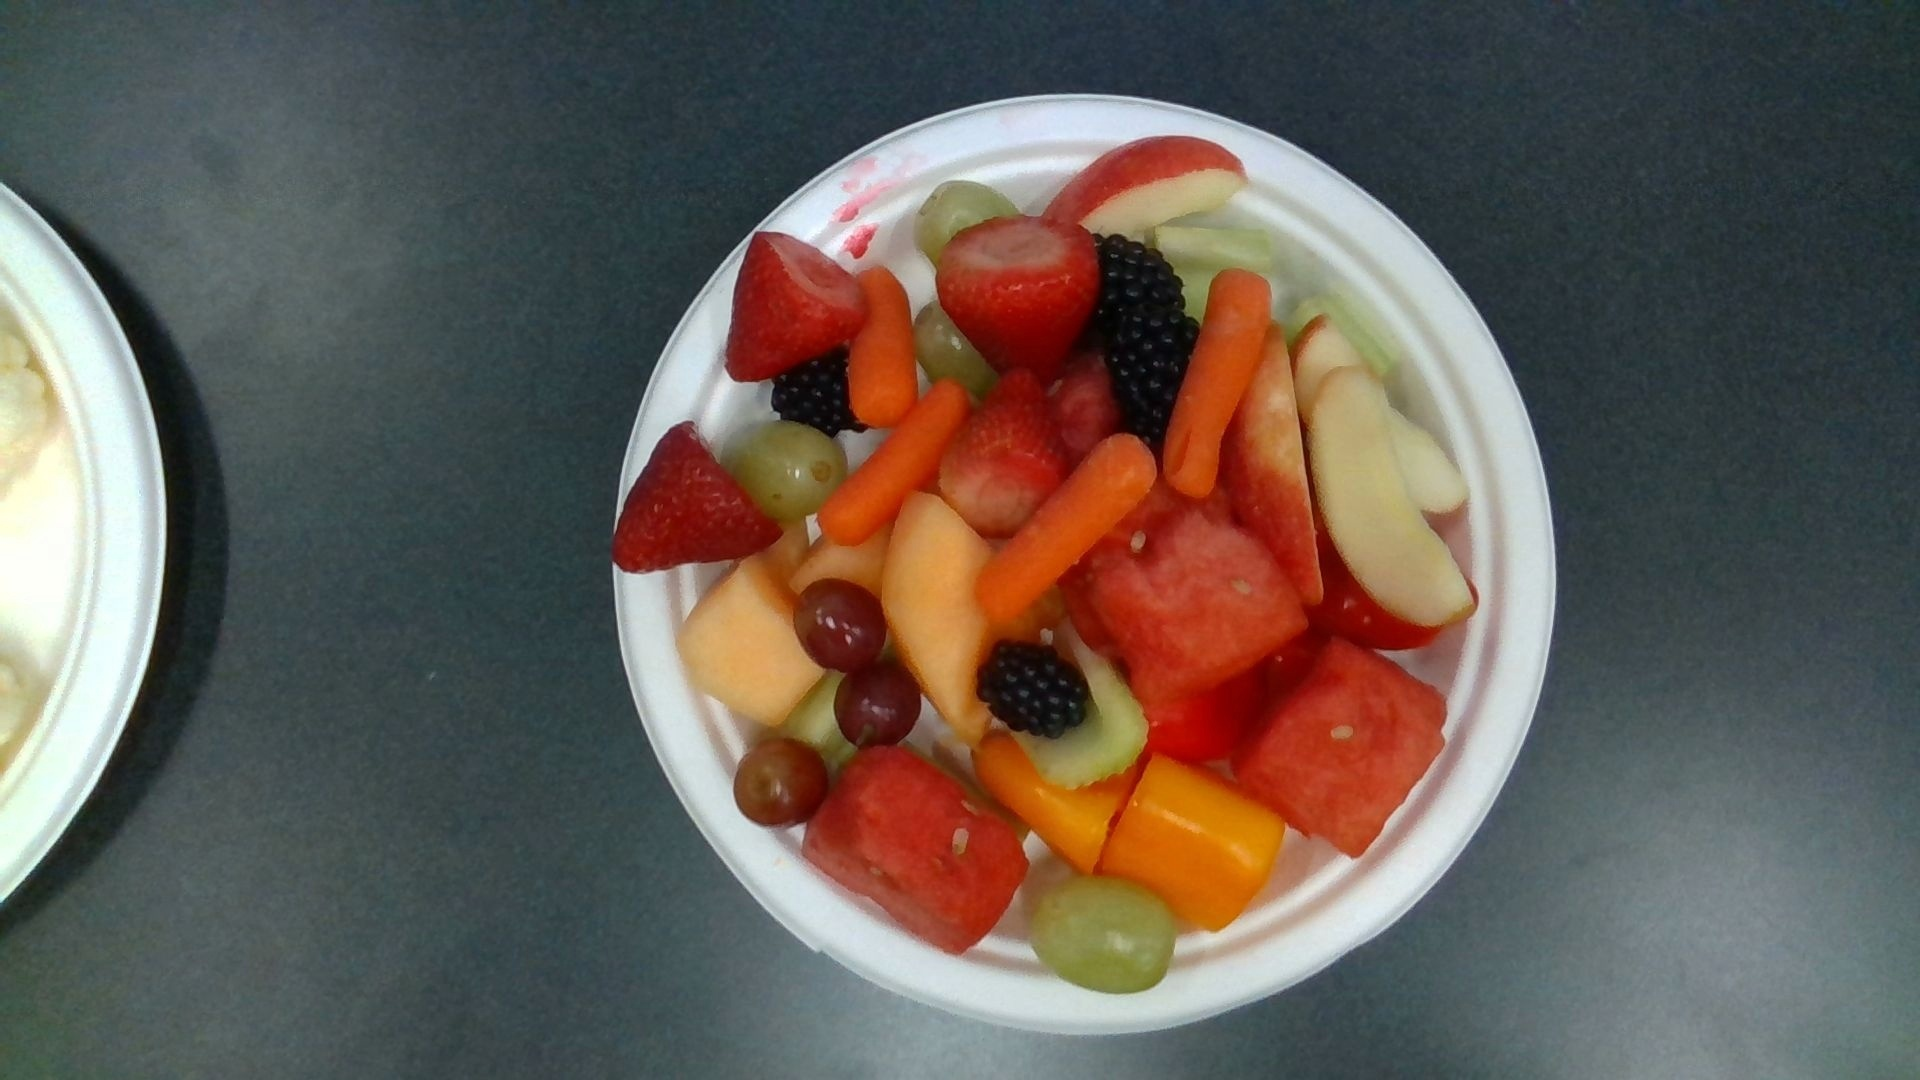apple: (1309, 371, 1470, 626), (1218, 323, 1324, 605), (1040, 136, 1245, 229)
bell_pepper: (1104, 756, 1280, 923)
blackberry: (1095, 233, 1182, 360), (978, 645, 1091, 740)
cantalope: (884, 493, 992, 738), (676, 555, 824, 721)
carrot: (977, 435, 1156, 611), (819, 381, 969, 546), (1164, 273, 1270, 496), (847, 270, 916, 426)
grape_green: (1029, 876, 1178, 993), (735, 423, 847, 513)
grape_purple: (794, 582, 885, 673), (735, 740, 825, 825), (835, 666, 922, 750)
melon: (1240, 638, 1445, 856), (804, 748, 1022, 953), (1091, 518, 1307, 695)
strawberry: (615, 423, 782, 575), (939, 218, 1098, 375), (939, 371, 1077, 533), (727, 231, 865, 380)
